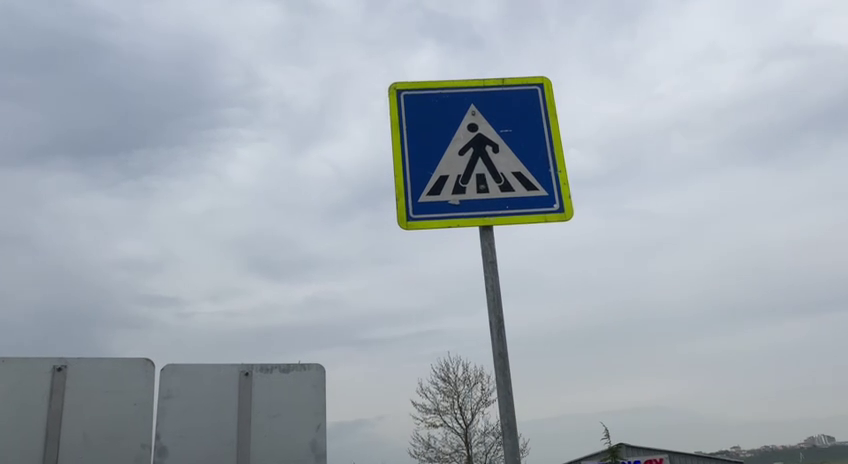pedestrianCrossing: (387, 68, 578, 239)
